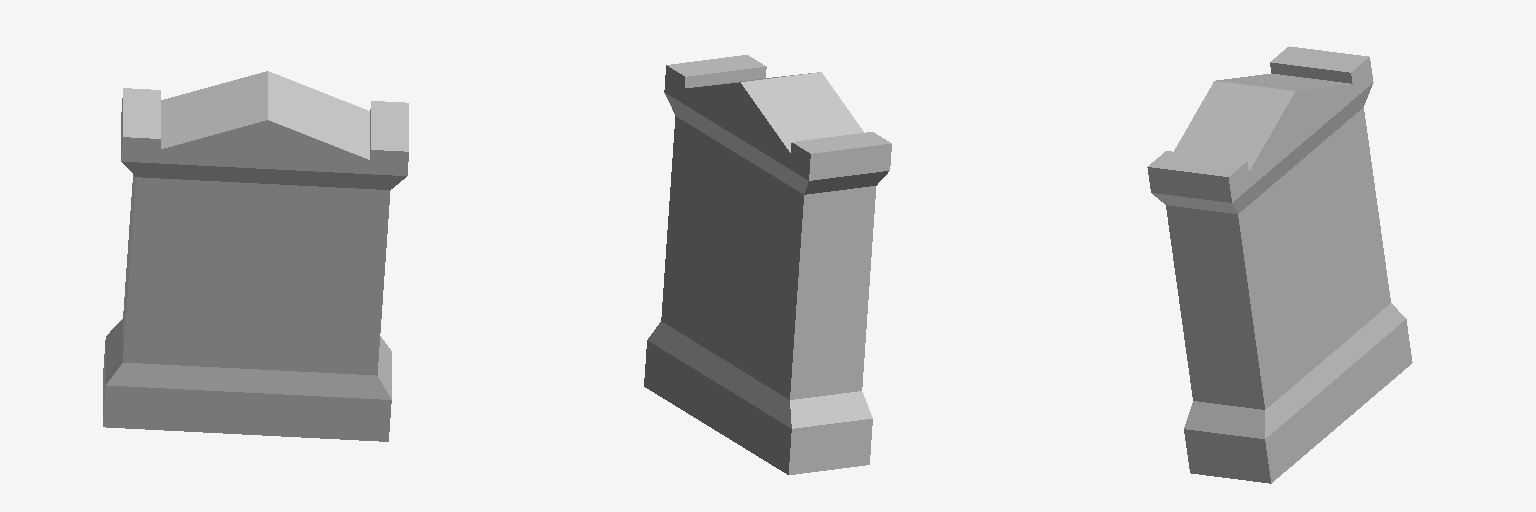
Rendered from Gravestone_Decorative_3.obj.
3 renders of one model, left to right at view 1: azimuth 30°, elevation 25°; view 2: azimuth 150°, elevation 25°; view 3: azimuth 270°, elevation 25°, orthographic.
Parts seen in each view (by area): view 1: Gravestone_Decorative_3; view 2: Gravestone_Decorative_3; view 3: Gravestone_Decorative_3.
Part boxes in pixels (x1,y1,x2,y2): Gravestone_Decorative_3: (103,71,408,441); Gravestone_Decorative_3: (644,55,891,474); Gravestone_Decorative_3: (1147,46,1412,483).
Size of the model in its own units: 0.5653 by 0.734 by 0.5055.